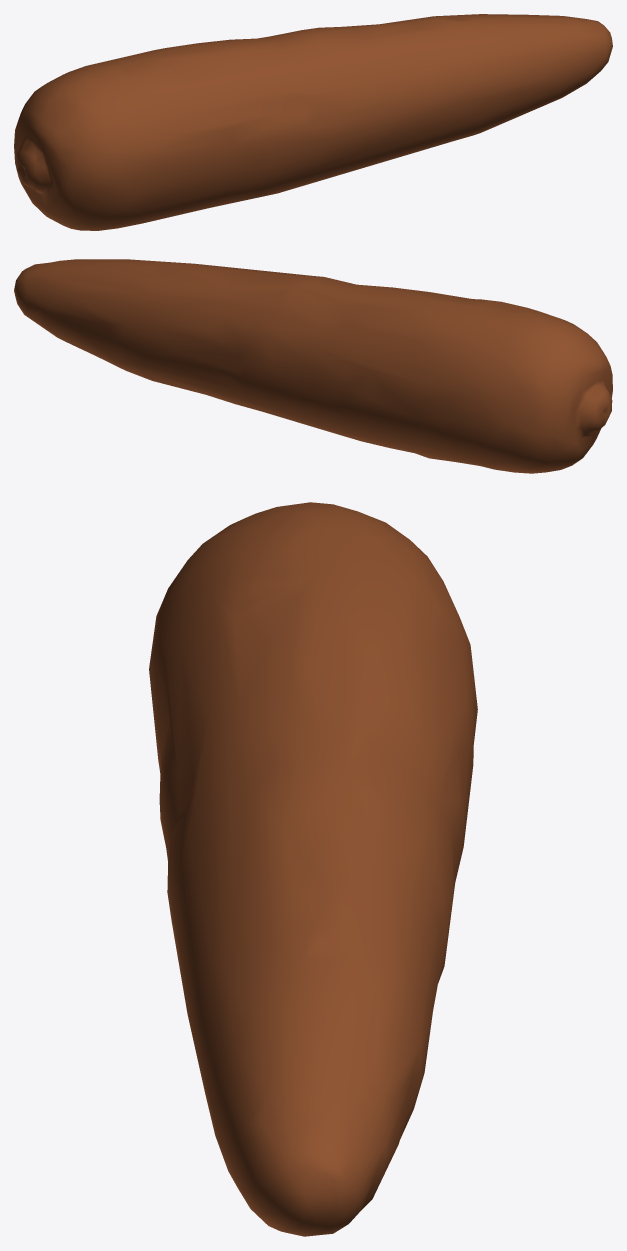
The model's file is cenoura.fbx.
The picture shows the model from 3 angles, top to bottom: view 1: azimuth 30°, elevation 25°; view 2: azimuth 150°, elevation 25°; view 3: azimuth 270°, elevation 25°; orthographic projection. The views are drawn at different scales.
Parts seen in each view (by area): view 1: 07_carrot1; view 2: 07_carrot1; view 3: 07_carrot1.
Part boxes in pixels (x1,y1,x2,y2): 07_carrot1: (14, 14, 612, 230); 07_carrot1: (14, 259, 612, 473); 07_carrot1: (149, 502, 477, 1236).
Size of the model in its own units: 142 by 35.98 by 34.32.
